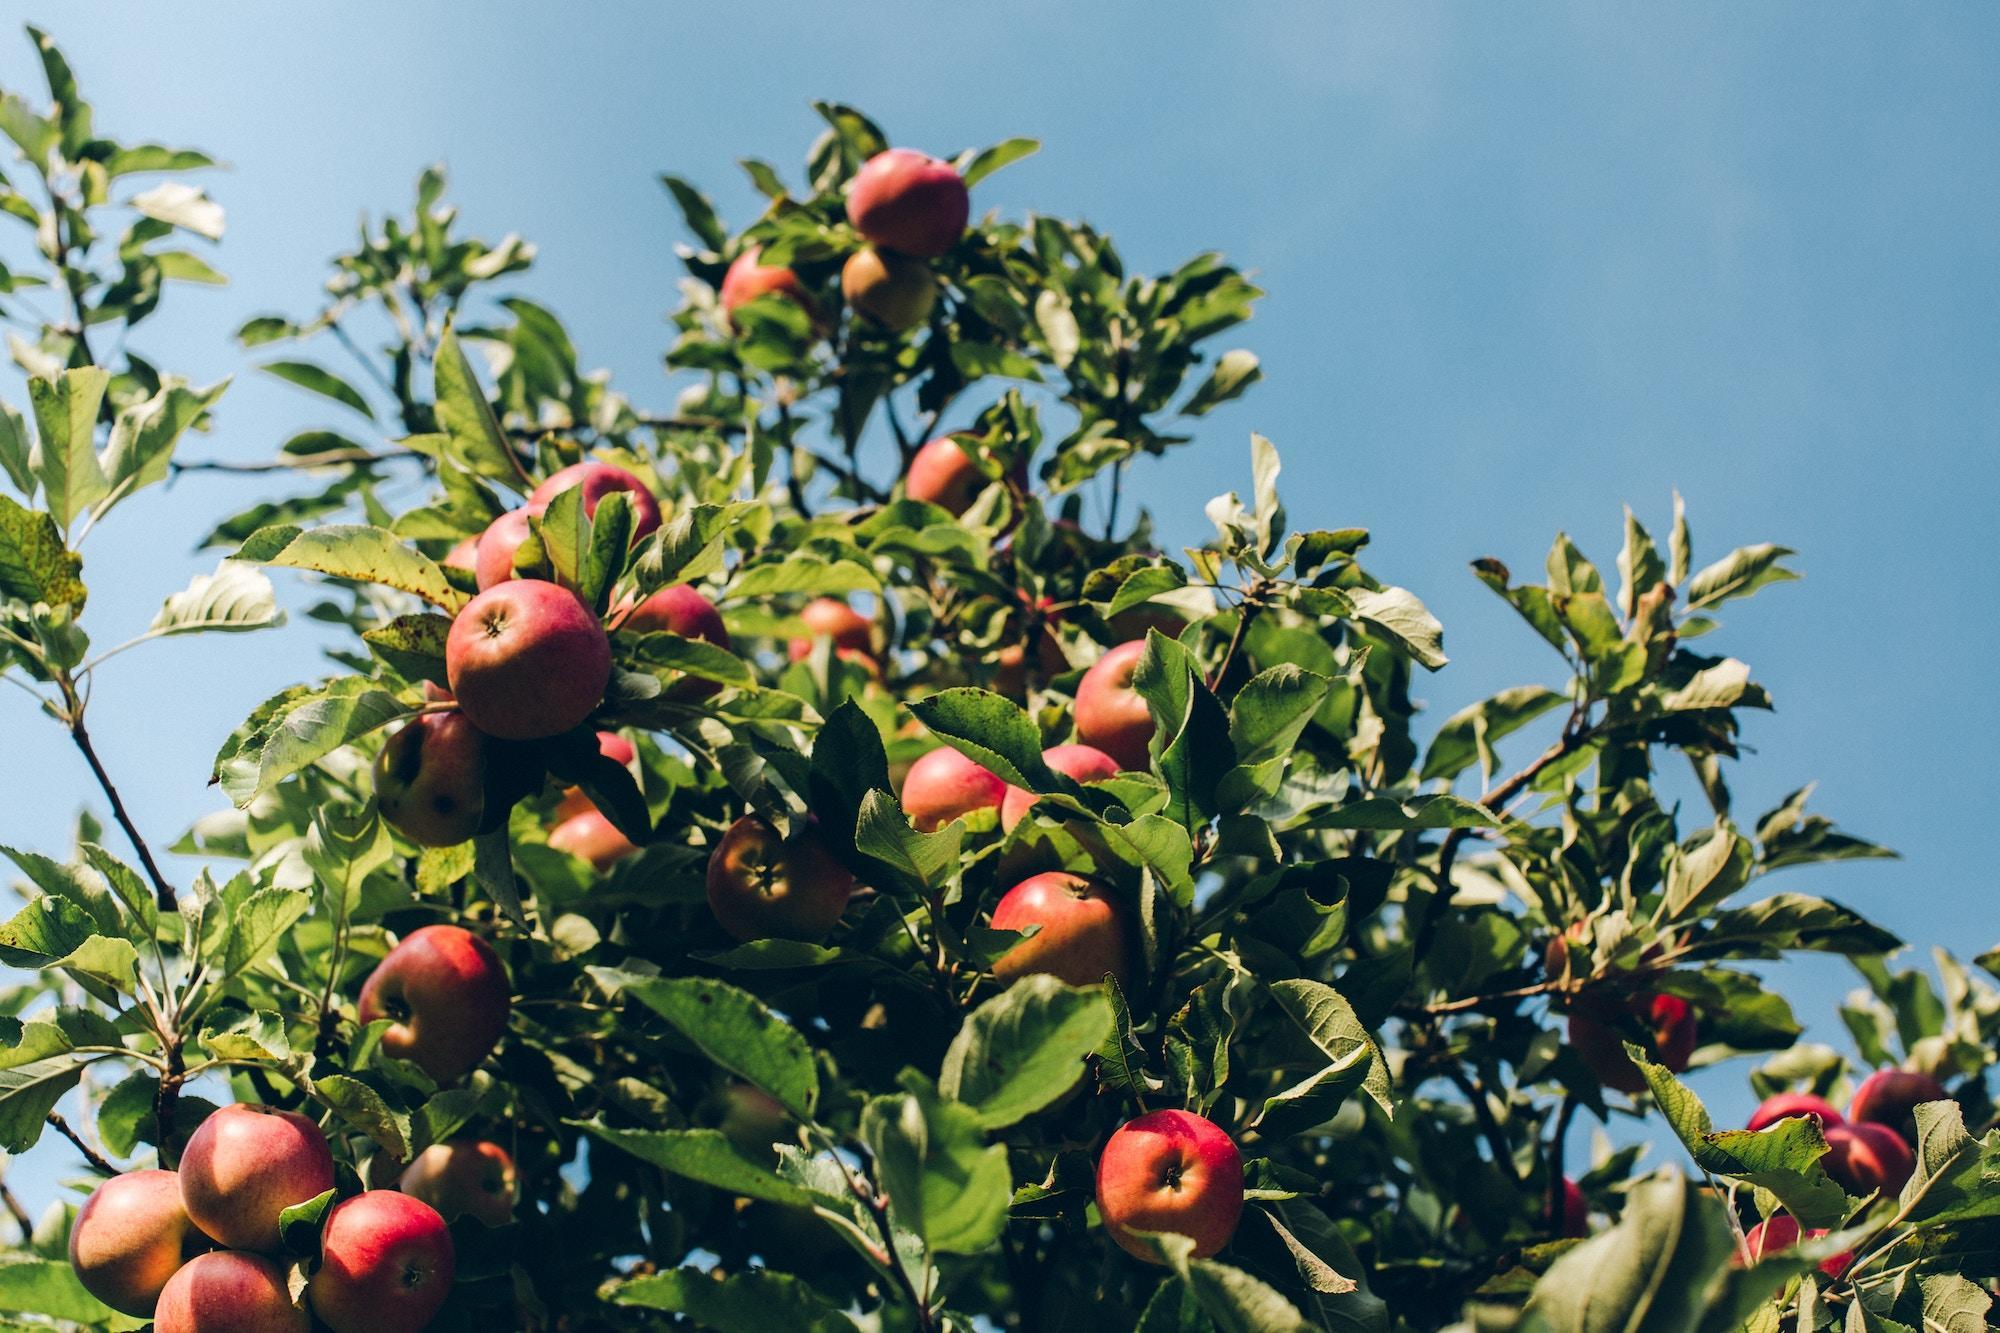apple: (445, 574, 611, 739), (352, 919, 512, 1088), (175, 1105, 341, 1256), (1094, 1108, 1246, 1262), (71, 1163, 210, 1321), (306, 1189, 455, 1332), (370, 698, 486, 847), (987, 867, 1126, 980), (393, 1137, 514, 1242), (152, 1251, 302, 1333), (1065, 643, 1152, 762), (898, 745, 1004, 830)
